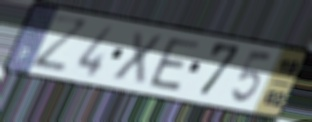4: (73, 22, 115, 79)
5: (229, 48, 274, 105)
7: (197, 40, 242, 101)
E: (146, 36, 203, 94)
X: (109, 28, 166, 86)
Z: (28, 12, 93, 74)
